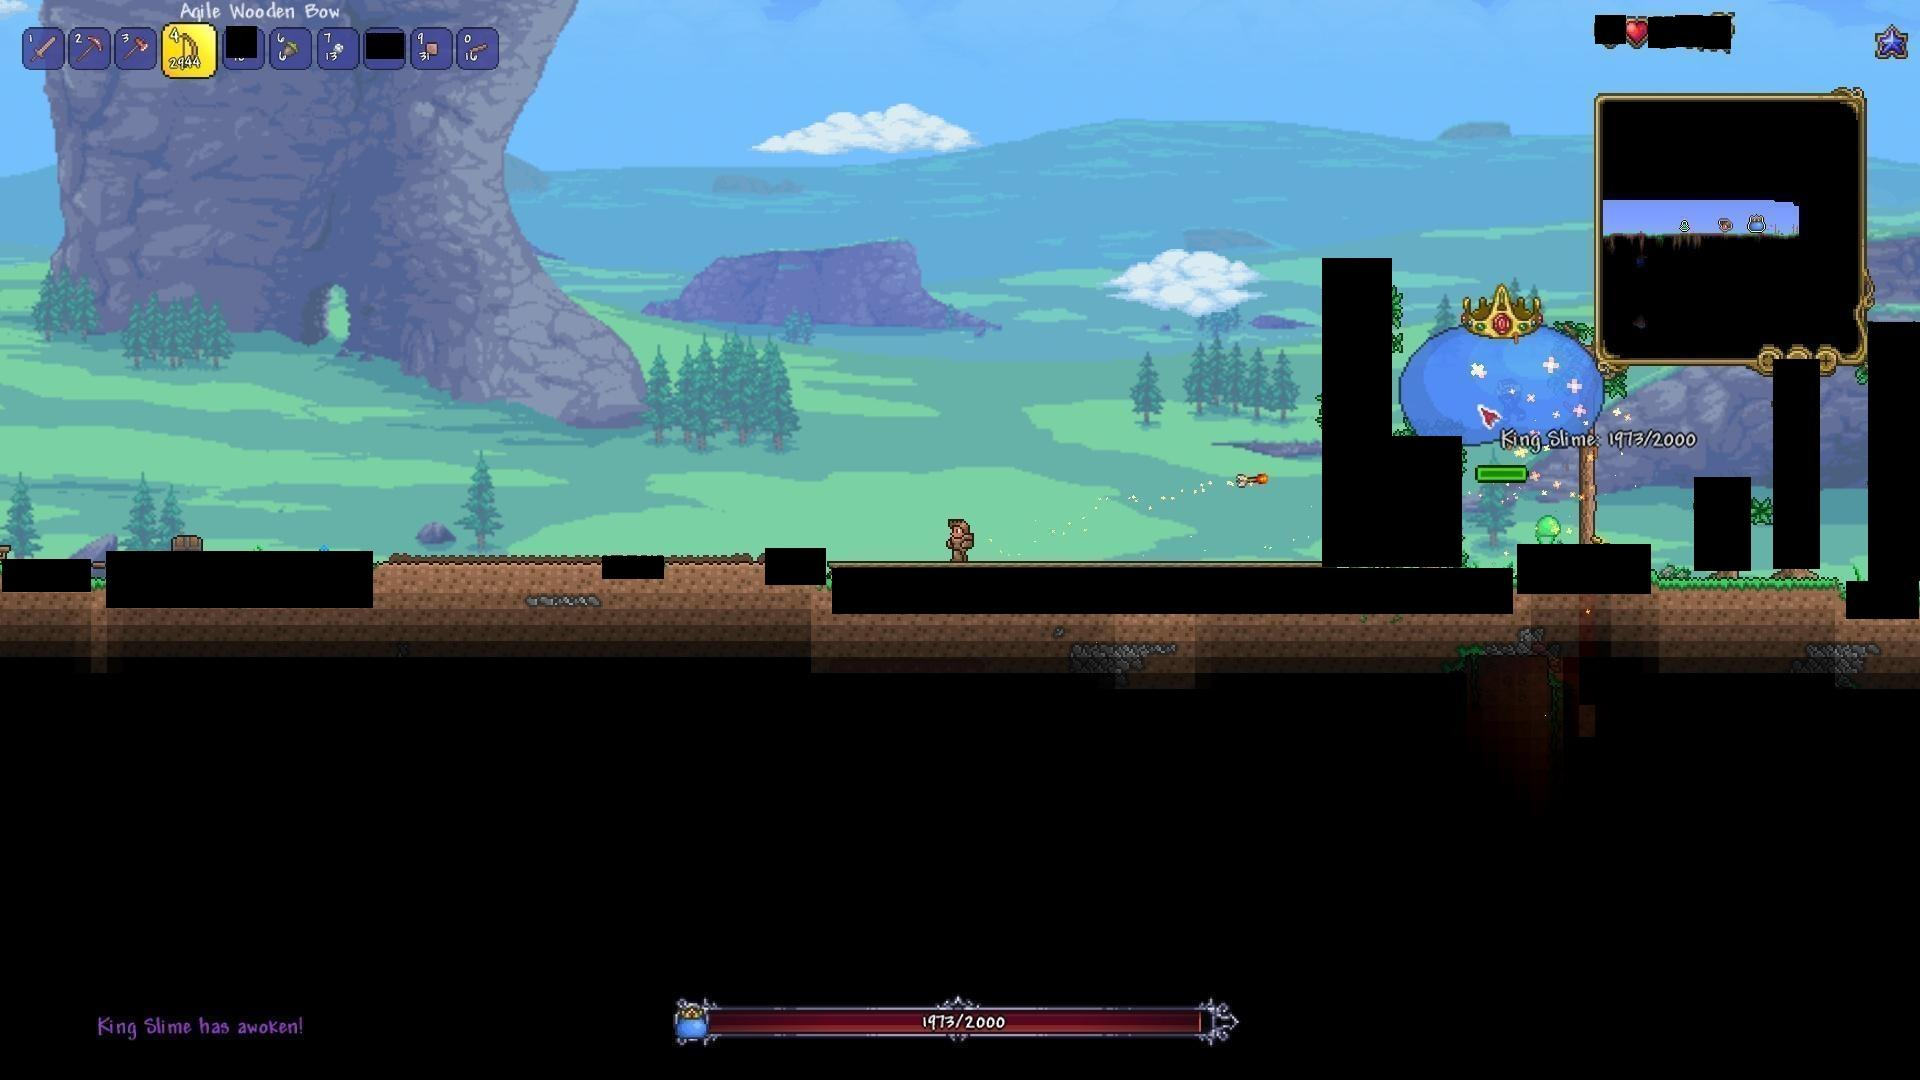dirt: (1658, 574, 1844, 613)
heart: (1625, 17, 1651, 46)
slime: (1538, 514, 1563, 542)
